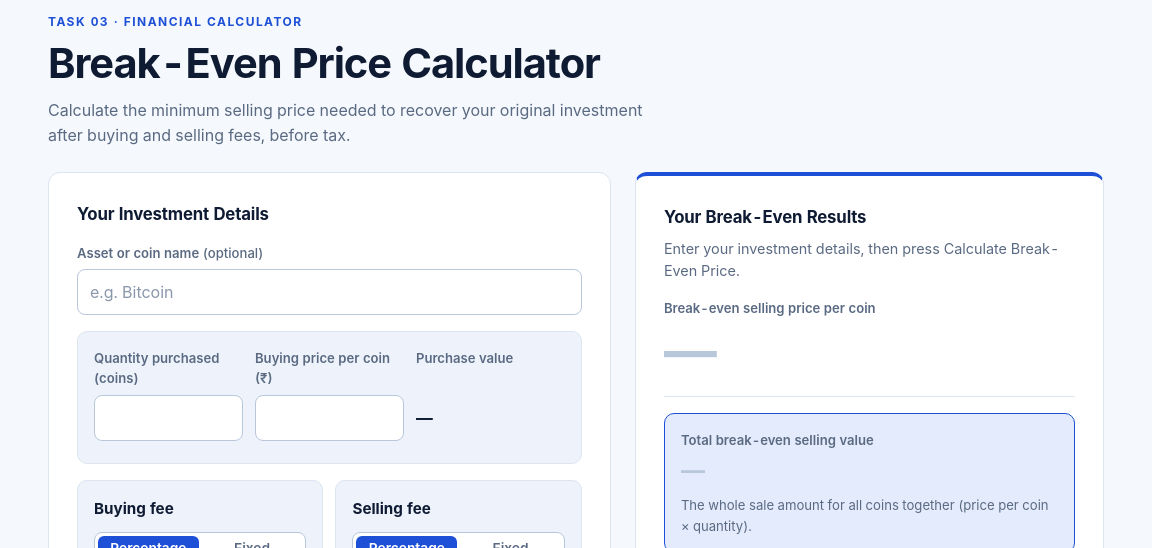
Test case: stale results and reset › hides the old result as soon as a number changes
The image size is (1152, 548).
Type "5" into the field labelled "Quantity purchased (coins)". click: (168, 418)
box: [94, 395, 243, 441]
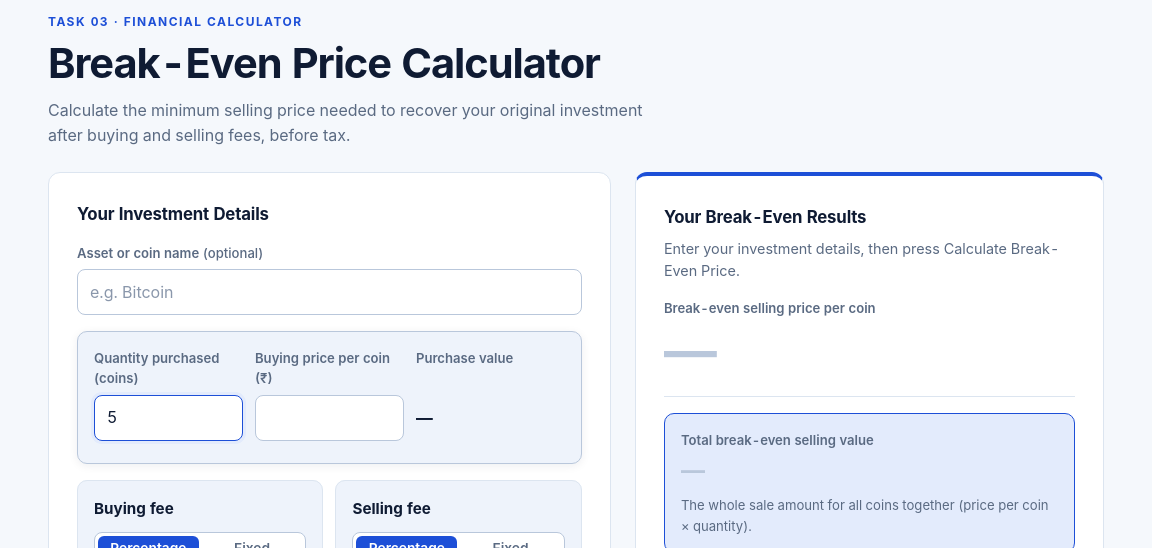
Type "100" into the field labelled "Buying price per coin (₹)". click: (330, 418)
box: [255, 395, 404, 441]
(page scrolled)
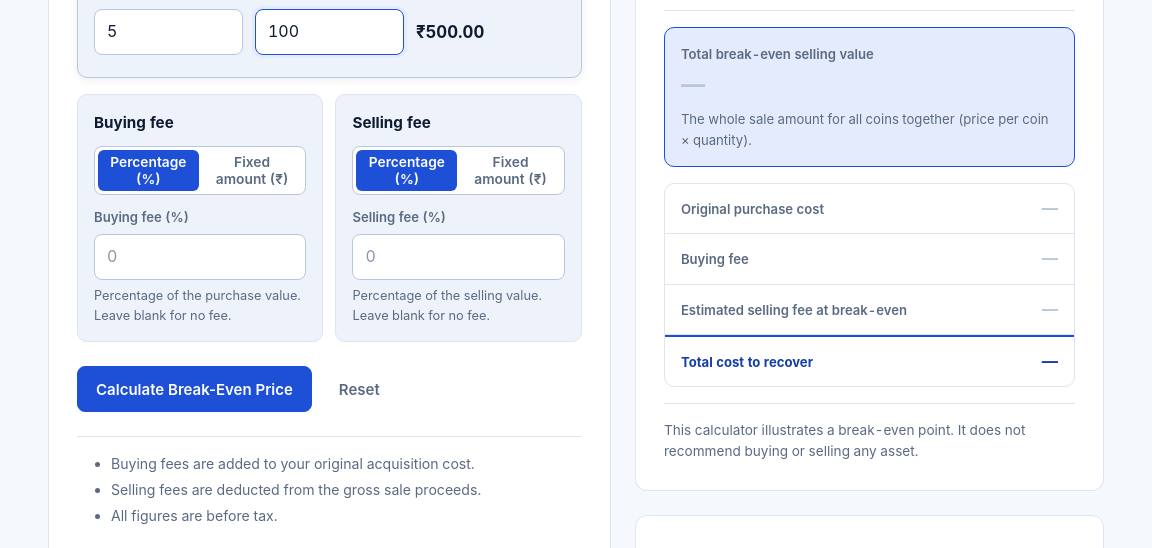
Type "1" into the field labelled "Selling fee (%)". click: (459, 257)
box: [352, 234, 565, 280]
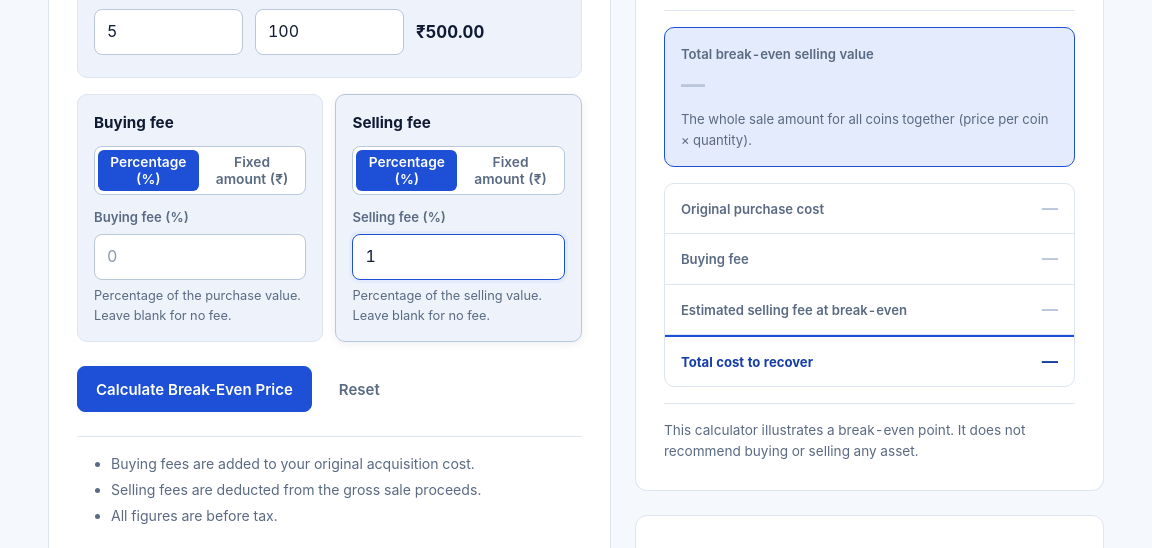
Click the button "Calculate Break-Even Price". click: click(194, 389)
box: [77, 366, 312, 412]
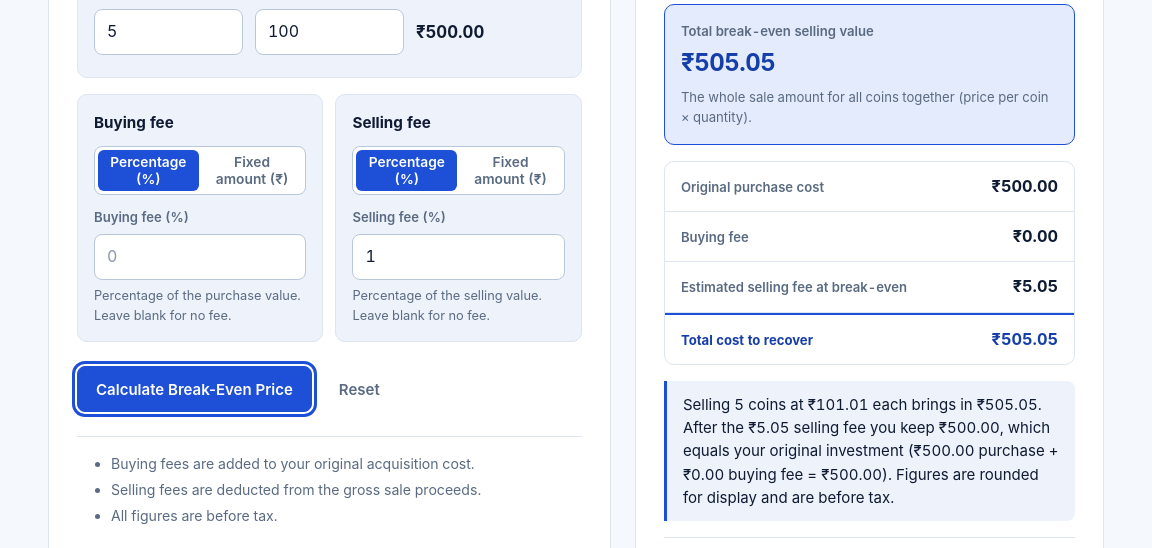
Type "0" into the field labelled "Quantity purchased (coins)". click: (168, 32)
box: [94, 9, 243, 55]
(page scrolled)
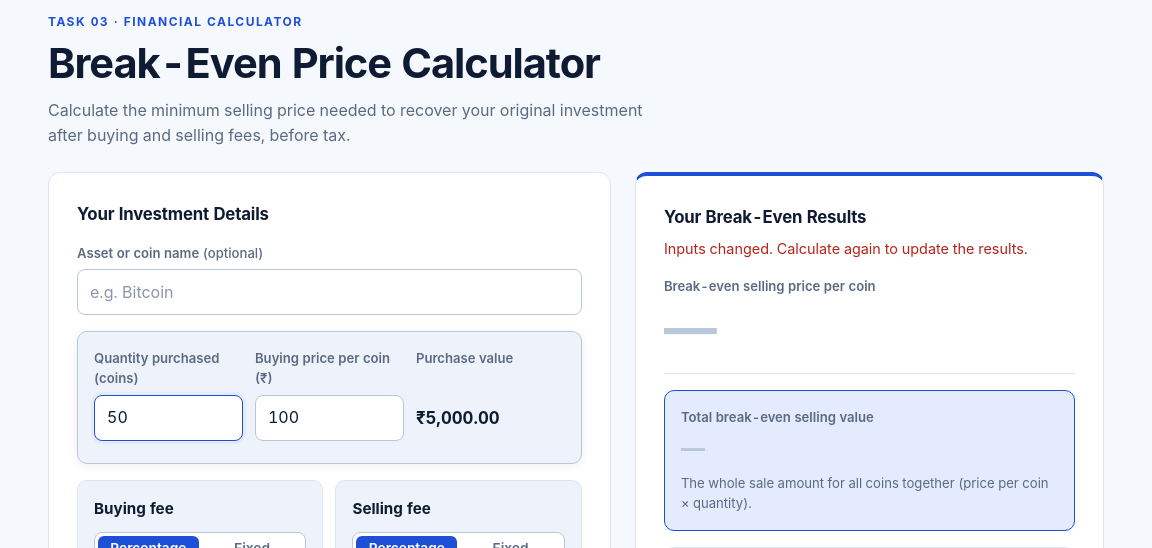
Result: the text "Inputs changed. Calculate again to update the results." is shown at [664, 238, 1075, 260]
Result: the text with test id "be-explain" is gone
